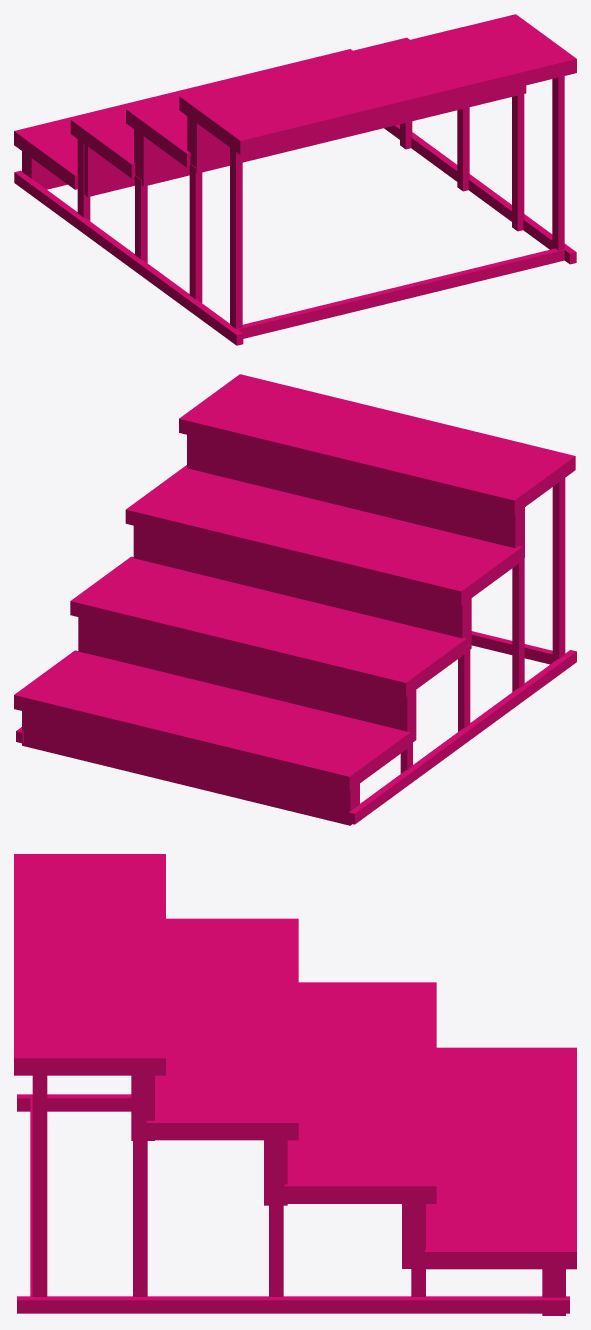
The model's file is Metal_Stairs_06.fbx.
3 renders of one model, top to bottom at view 1: azimuth 30°, elevation 25°; view 2: azimuth 150°, elevation 25°; view 3: azimuth 270°, elevation 25°, orthographic. The views are drawn at different scales.
Visible parts, largest first — view 1: Metal_Stairs_06; view 2: Metal_Stairs_06; view 3: Metal_Stairs_06.
Part boxes in pixels (x1,y1,x2,y2): Metal_Stairs_06: (14, 14, 576, 345); Metal_Stairs_06: (14, 374, 576, 825); Metal_Stairs_06: (14, 854, 576, 1315).
Size of the model in its own units: 114 by 67.05 by 132.
